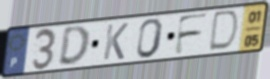0: (136, 17, 165, 60)
3: (30, 25, 58, 72)
D: (56, 24, 92, 68), (207, 8, 242, 53)
F: (172, 12, 211, 57)
K: (101, 22, 130, 62)
